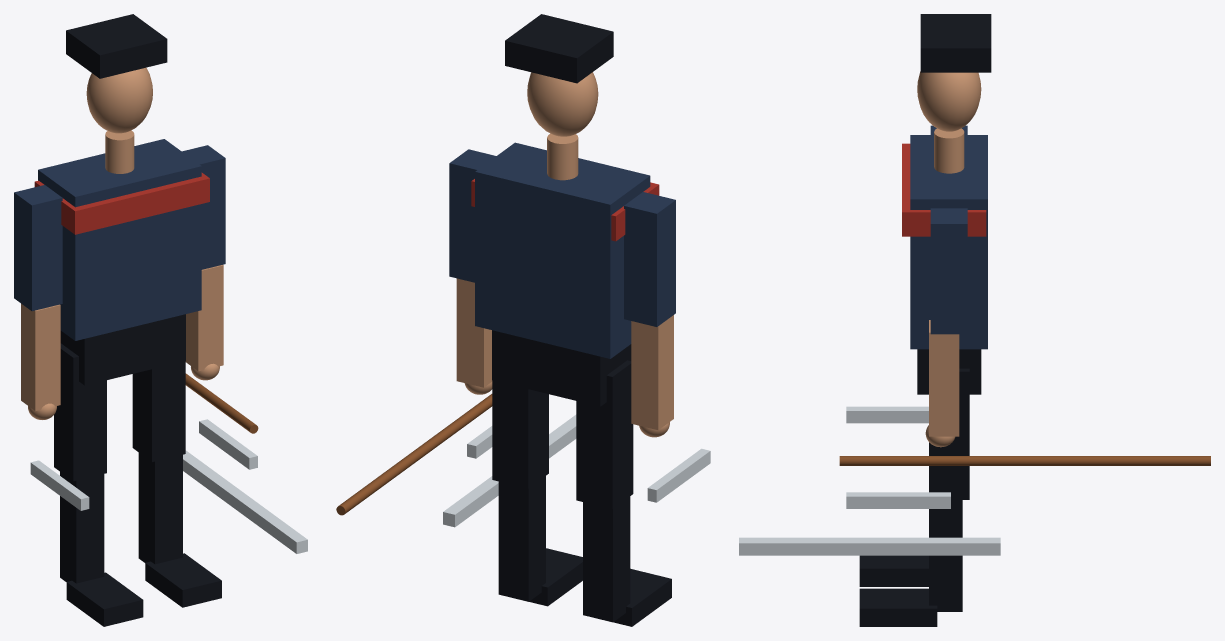
Rendered from eastern-humanoid.glb.
3 views of the same model, side by side, from view 1: azimuth 30°, elevation 25°; view 2: azimuth 150°, elevation 25°; view 3: azimuth 270°, elevation 25° (orthographic). The views are drawn at different scales.
Visible parts, largest first — view 1: TorsoMesh, ArmLMesh, LegLMesh, HipsMesh, LegRMesh, ShinRMesh, HairMesh, ChestAccentMesh, ShinLMesh, ForeLMesh, HeadMesh, ForeRMesh (+8 smaller); view 2: TorsoMesh, LegLMesh, ArmLMesh, HipsMesh, LegRMesh, ShinRMesh, ShinLMesh, HairMesh, ForeLMesh, HeadMesh, ArmRMesh, ForeRMesh (+8 smaller); view 3: TorsoMesh, WeaponSwordMesh, ArmRMesh, HairMesh, WeaponStaffMesh, HeadMesh, ForeRMesh, ShinRMesh, FootRMesh, LegRMesh, FootLMesh, ChestAccentMesh (+4 smaller).
Boxes of the visible parts, left/top/right/bottom form: TorsoMesh: left=38, top=139, right=201, bottom=340; ArmLMesh: left=14, top=185, right=62, bottom=311; LegLMesh: left=54, top=343, right=106, bottom=481; HipsMesh: left=60, top=314, right=185, bottom=385; LegRMesh: left=132, top=361, right=185, bottom=461; ShinRMesh: left=138, top=452, right=182, bottom=564; HairMesh: left=66, top=14, right=167, bottom=78; ChestAccentMesh: left=34, top=172, right=209, bottom=234; ShinLMesh: left=60, top=471, right=104, bottom=583; ForeLMesh: left=21, top=303, right=60, bottom=410; HeadMesh: left=86, top=67, right=152, bottom=133; ForeRMesh: left=185, top=265, right=223, bottom=371; TorsoMesh: left=475, top=142, right=650, bottom=358; LegLMesh: left=576, top=360, right=633, bottom=509; ArmLMesh: left=624, top=192, right=675, bottom=326; HipsMesh: left=492, top=330, right=631, bottom=406; LegRMesh: left=492, top=380, right=548, bottom=488; ShinRMesh: left=498, top=476, right=545, bottom=601; ShinLMesh: left=583, top=496, right=630, bottom=622; HairMesh: left=505, top=14, right=613, bottom=83; ForeLMesh: left=631, top=315, right=673, bottom=430; HeadMesh: left=527, top=72, right=598, bottom=136; ArmRMesh: left=449, top=149, right=495, bottom=282; ForeRMesh: left=456, top=278, right=492, bottom=387; TorsoMesh: left=910, top=135, right=987, bottom=349; WeaponSwordMesh: left=739, top=537, right=1000, bottom=555; ArmRMesh: left=930, top=208, right=967, bottom=334; HairMesh: left=920, top=14, right=991, bottom=72; WeaponStaffMesh: left=839, top=456, right=1210, bottom=465; HeadMesh: left=917, top=71, right=981, bottom=131; ForeRMesh: left=929, top=320, right=959, bottom=436; ShinRMesh: left=929, top=500, right=962, bottom=611; FootRMesh: left=859, top=588, right=937, bottom=626; LegRMesh: left=929, top=368, right=969, bottom=499; FootLMesh: left=859, top=555, right=928, bottom=586; ChestAccentMesh: left=902, top=143, right=986, bottom=236.
Size of the model in its own units: 1.38 by 3.7 by 2.79.
